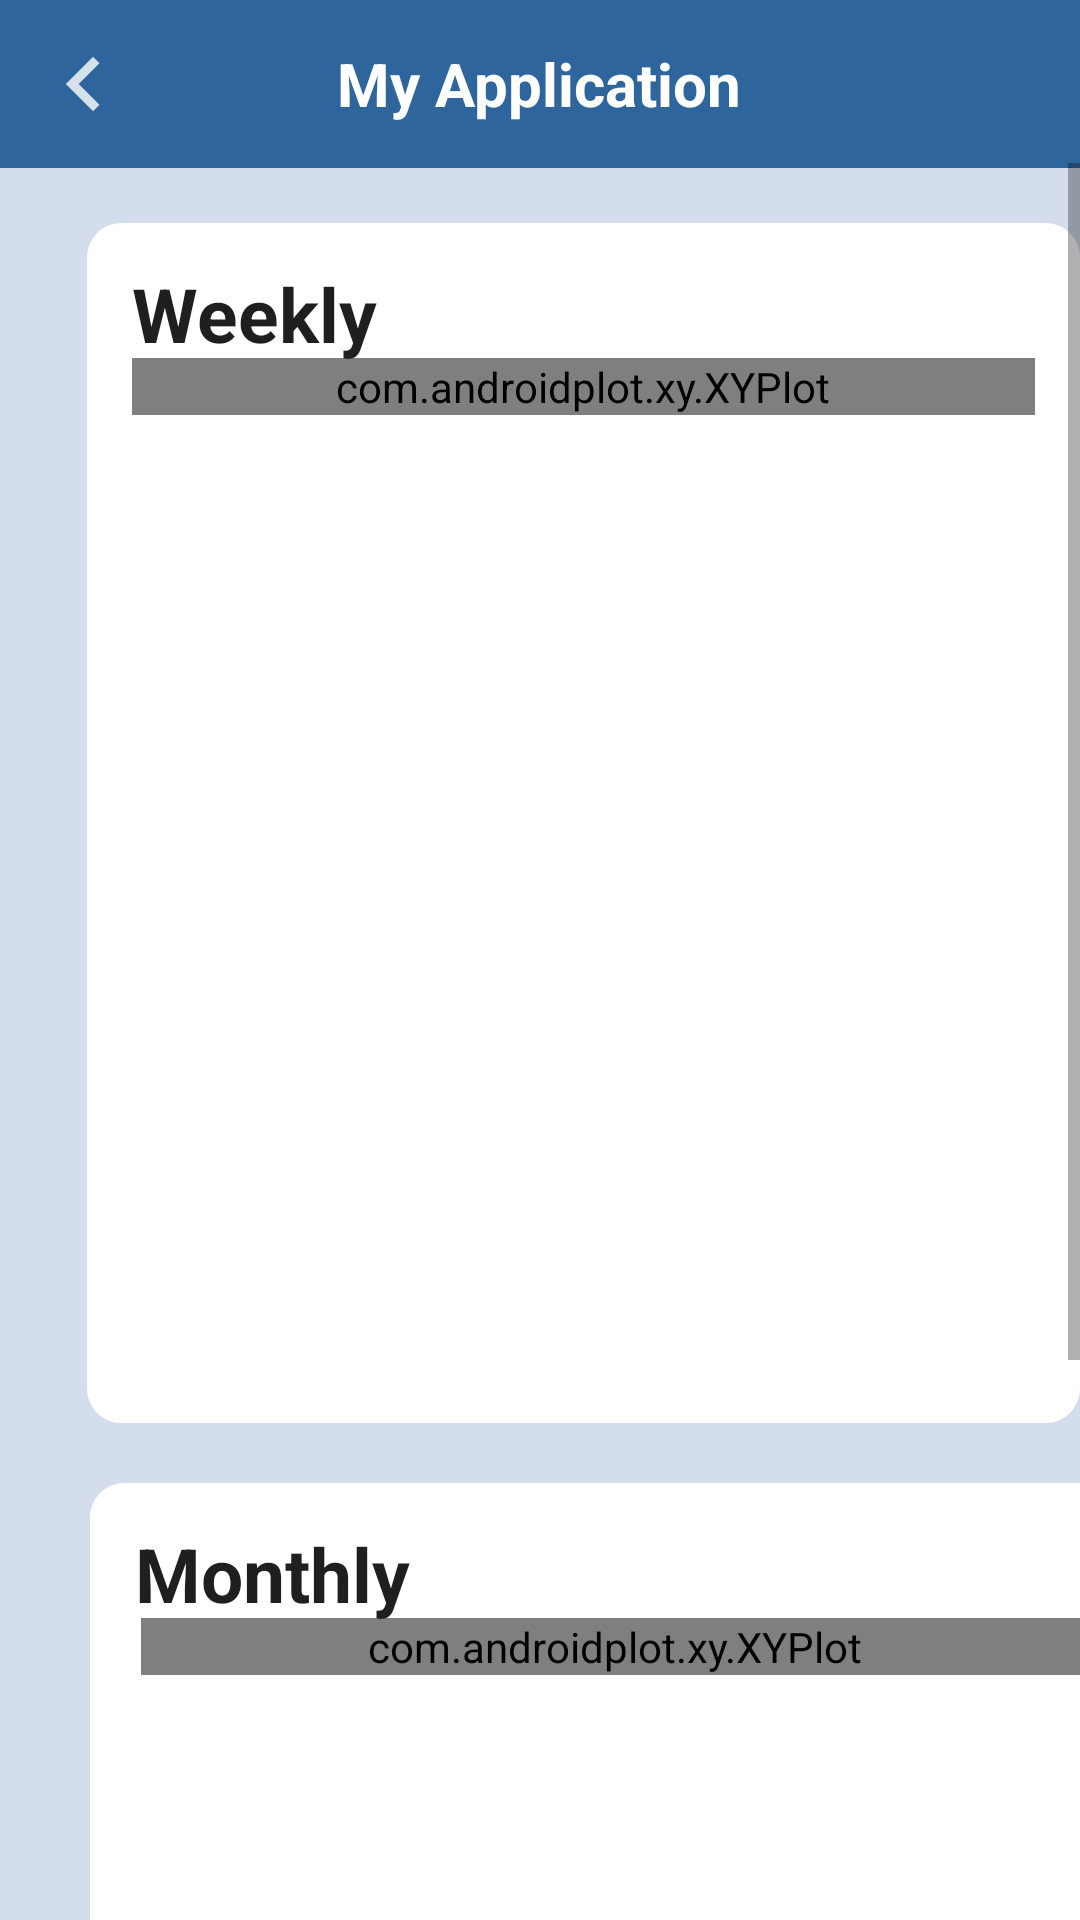

Point at icon controls on the screen. Image size 1080px×1920px, points as point (x, y).
back arrow: point (83, 84)
